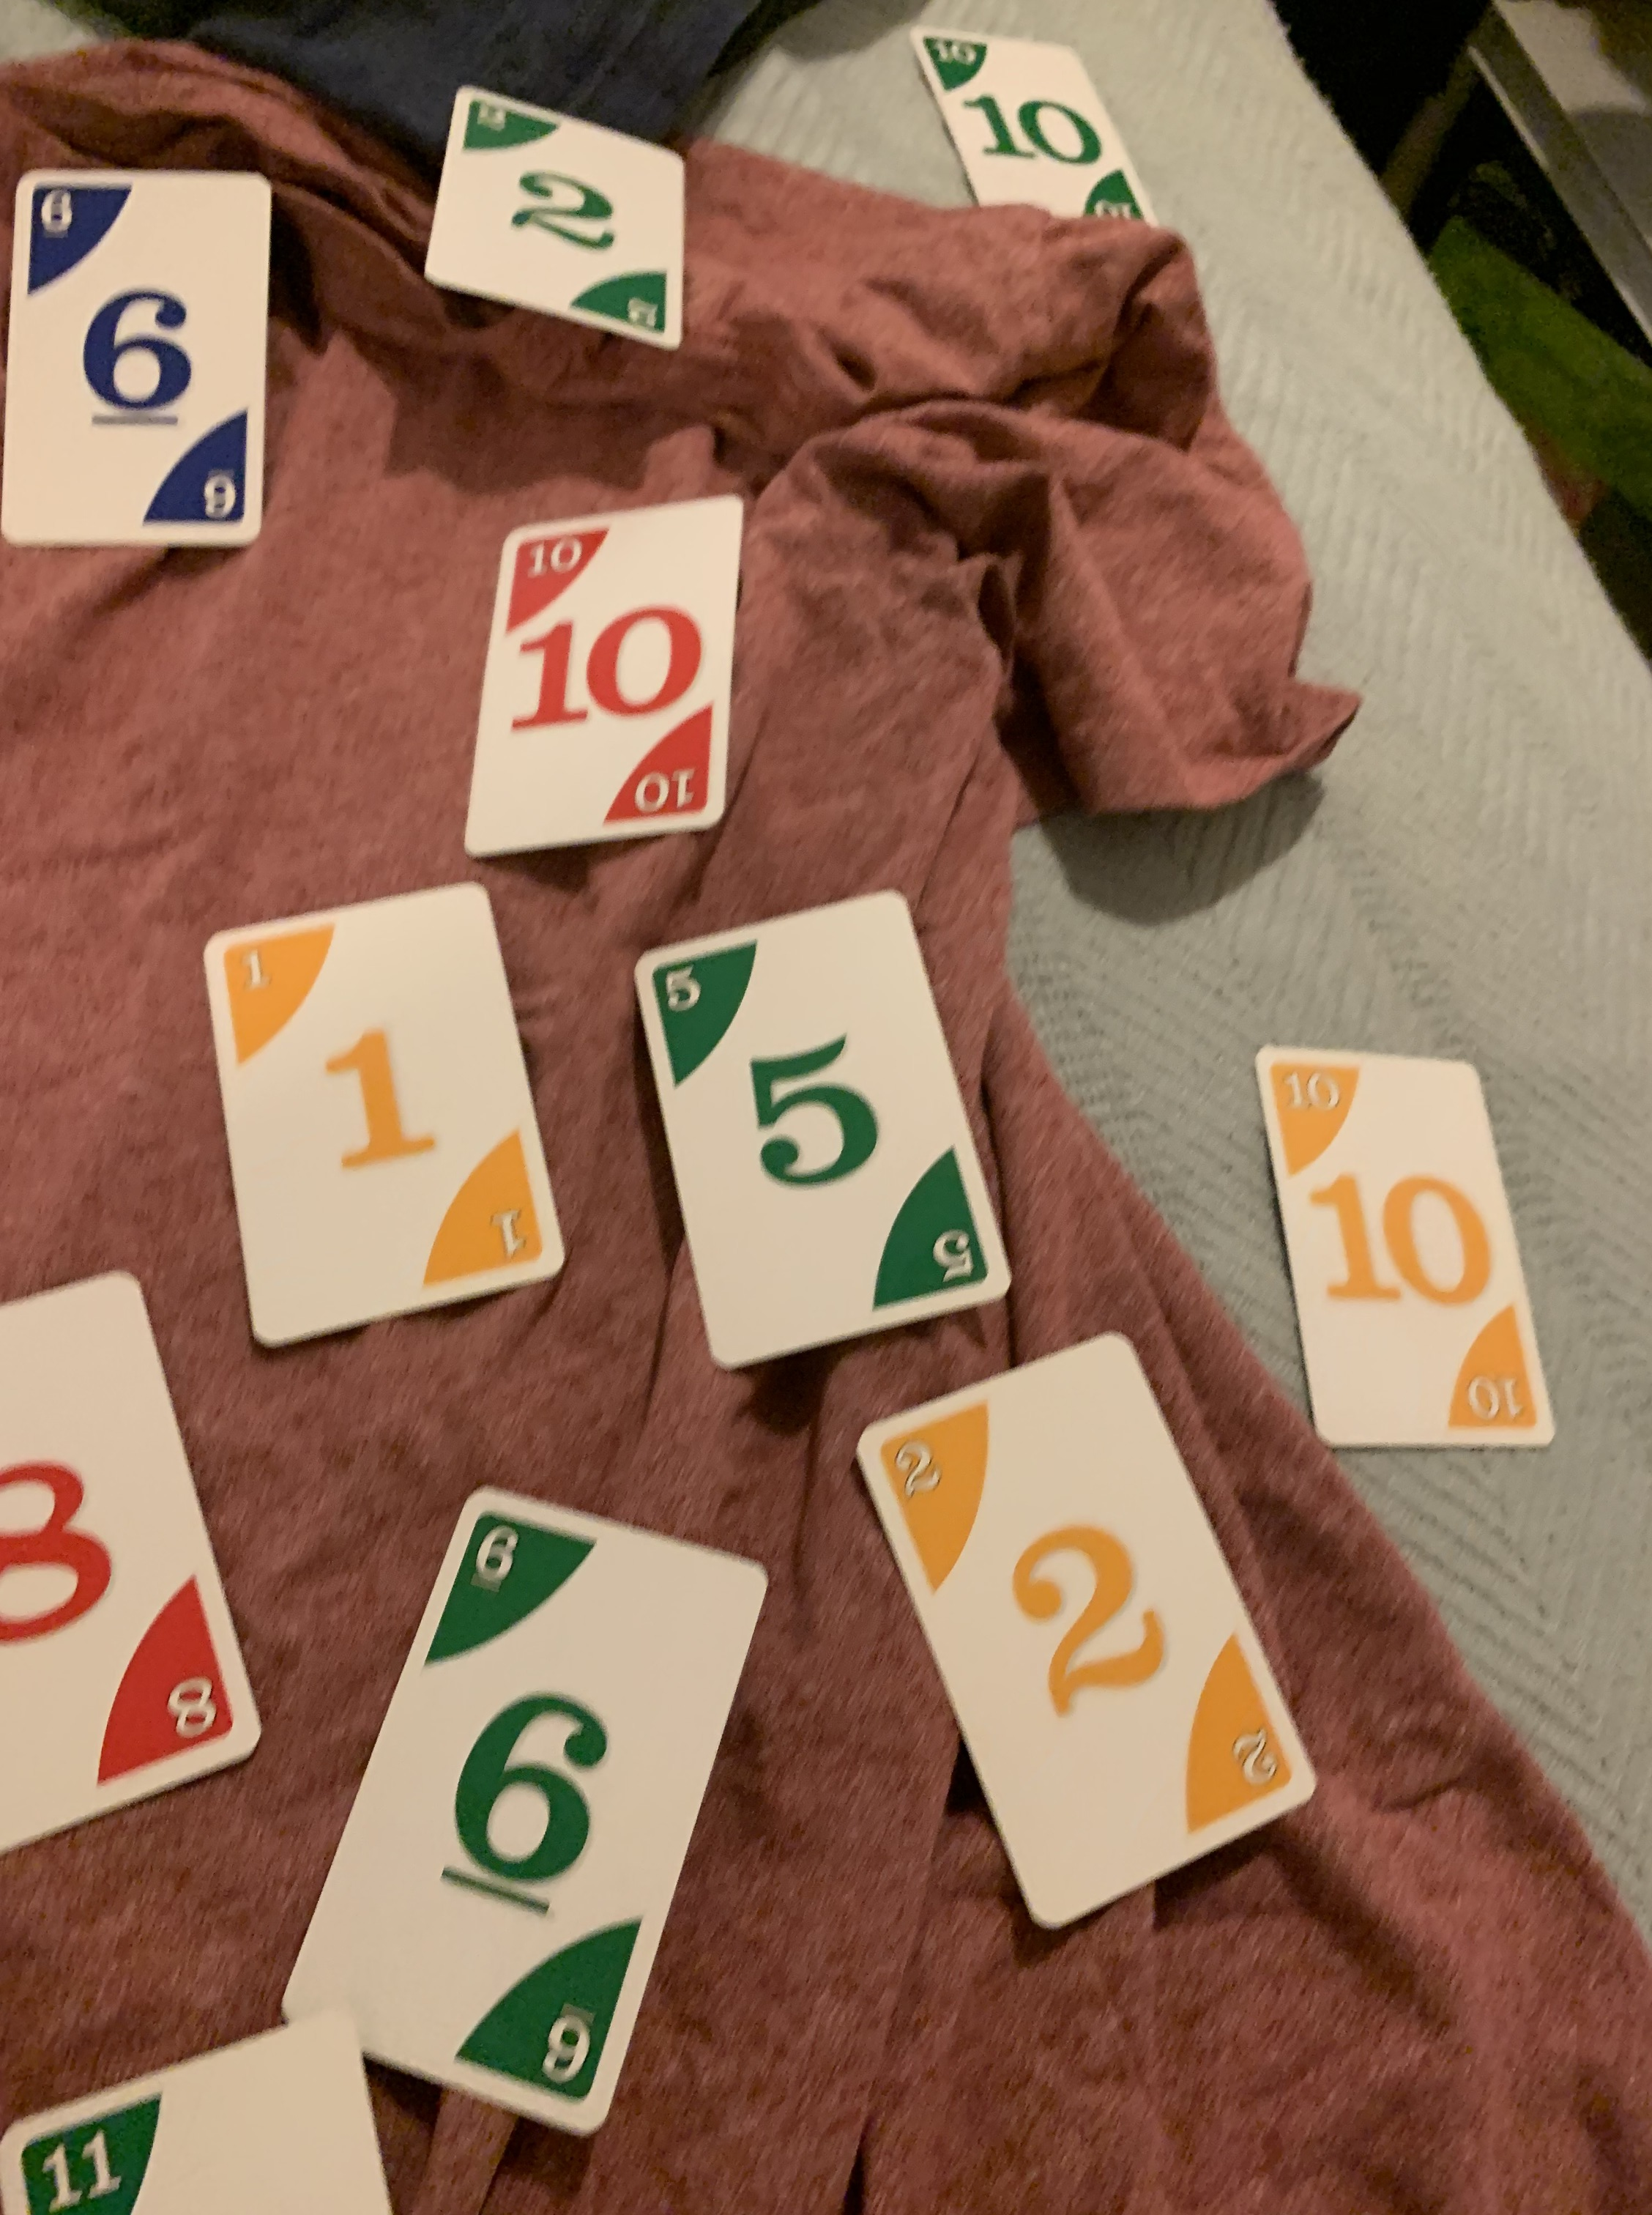five: (628, 887, 1017, 1382)
one: (194, 871, 569, 1361)
six: (274, 1477, 783, 2159), (0, 151, 278, 559)
ten: (1248, 1029, 1562, 1444), (451, 495, 753, 868)
two: (840, 1309, 1327, 1946), (422, 76, 696, 351)
